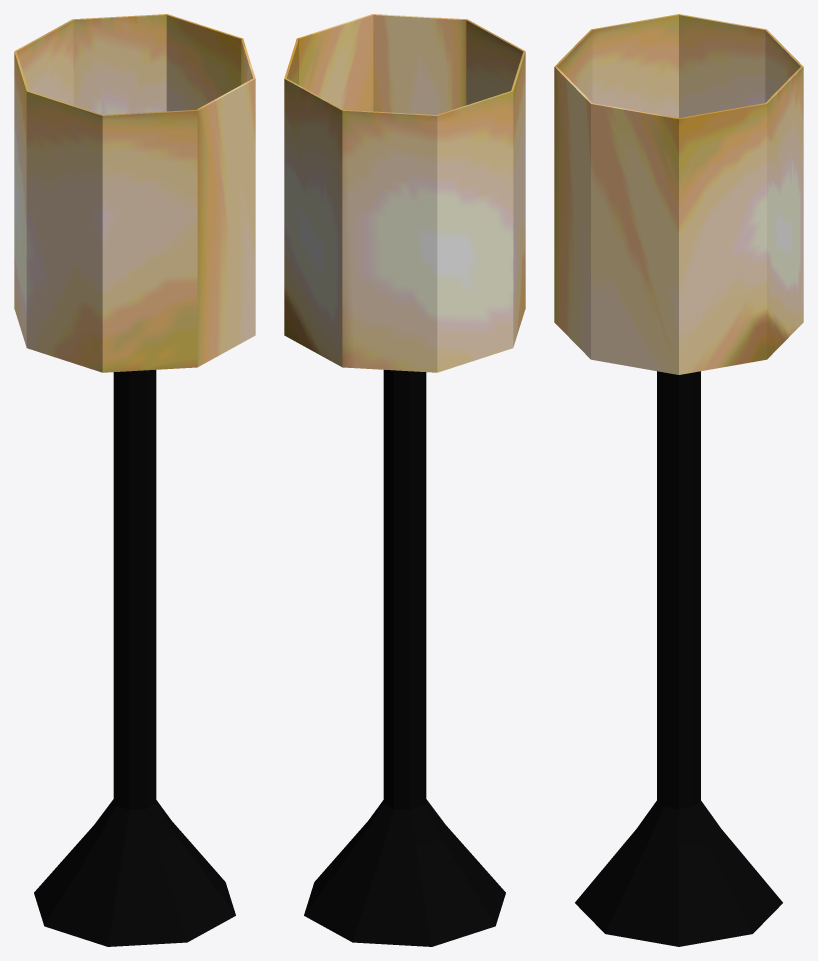
The model's file is LampTall.fbx.
The picture shows the model from 3 angles, left to right: view 1: azimuth 30°, elevation 25°; view 2: azimuth 150°, elevation 25°; view 3: azimuth 270°, elevation 25°; orthographic projection.
Visible parts, largest first — view 1: LampTall; view 2: LampTall; view 3: LampTall.
Boxes of the visible parts, x1,y1,x2,y2 form: LampTall: [14, 14, 255, 946]; LampTall: [284, 14, 525, 946]; LampTall: [554, 14, 803, 946].
Size of the model in its own units: 103 by 380 by 103.
